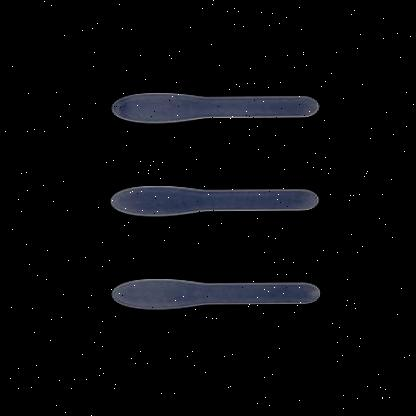Others: (106, 182, 317, 218), (108, 274, 320, 308), (108, 89, 320, 123)
